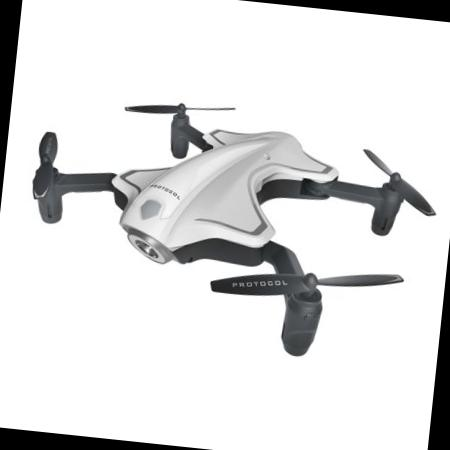drone: (15, 83, 450, 365)
